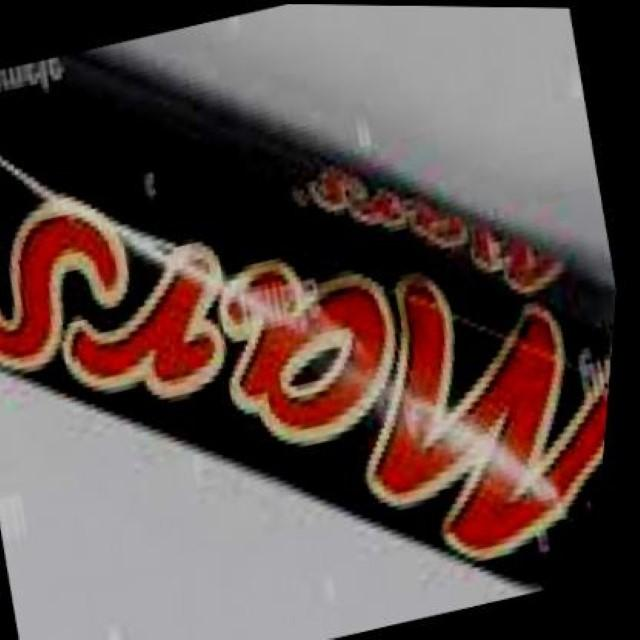mars_chocolate: (0, 80, 640, 607)
